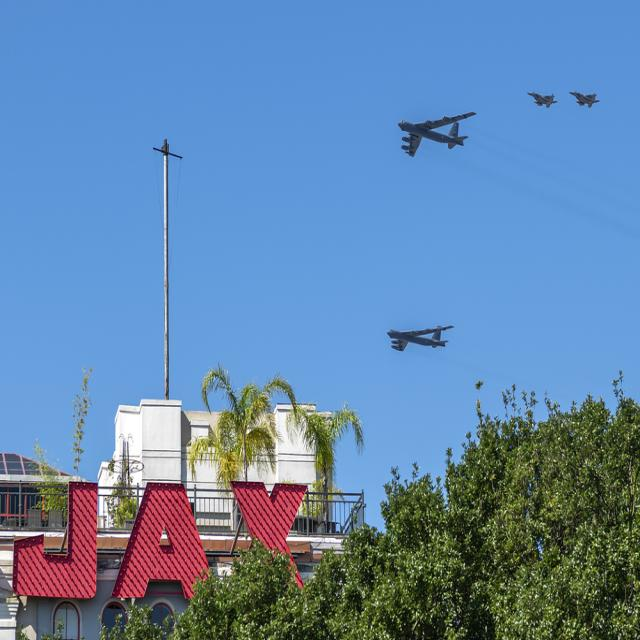MIL_Plane: (397, 111, 477, 158), (526, 90, 558, 108), (568, 90, 600, 108), (386, 334, 455, 342)
